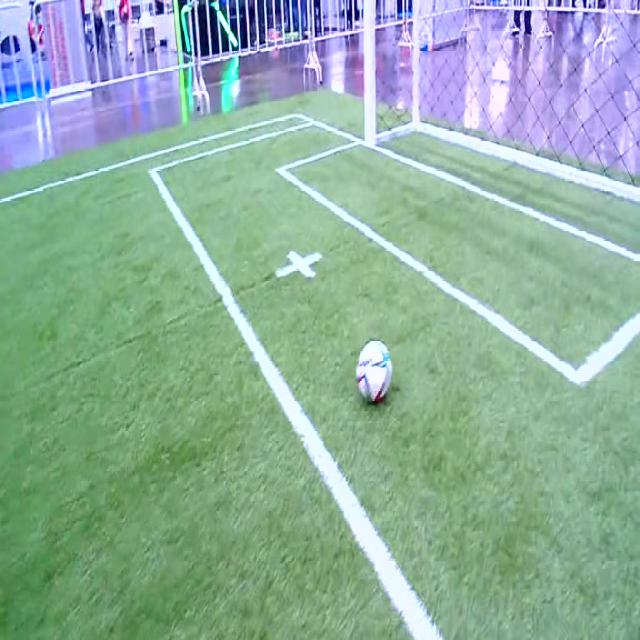ball: (357, 340, 392, 401)
